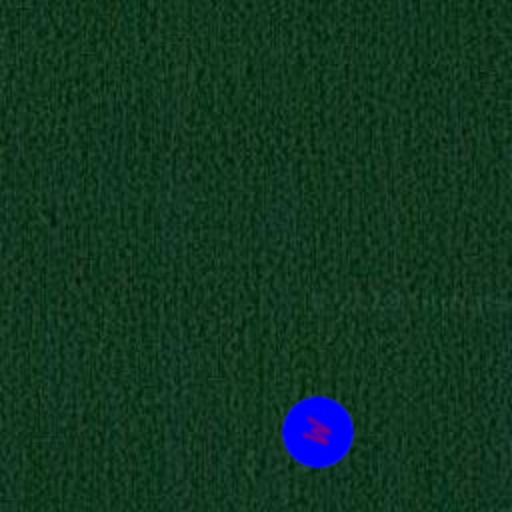circle: (272, 386, 364, 478)
